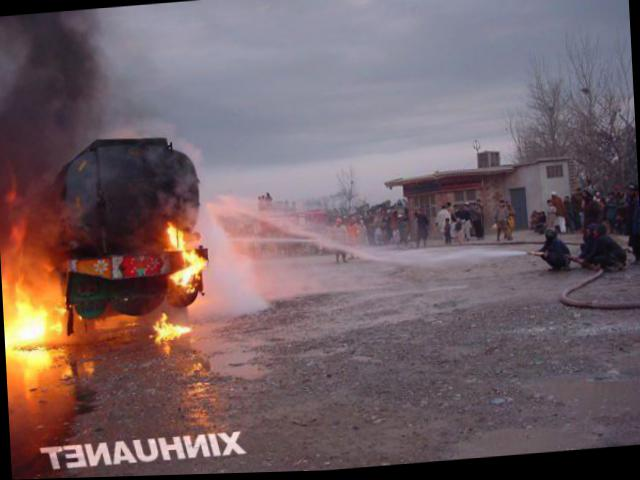fire: (2, 248, 65, 344), (8, 346, 50, 372), (152, 320, 190, 340), (10, 216, 32, 248), (170, 266, 198, 286), (170, 223, 186, 250), (6, 174, 18, 202), (186, 251, 208, 265)
